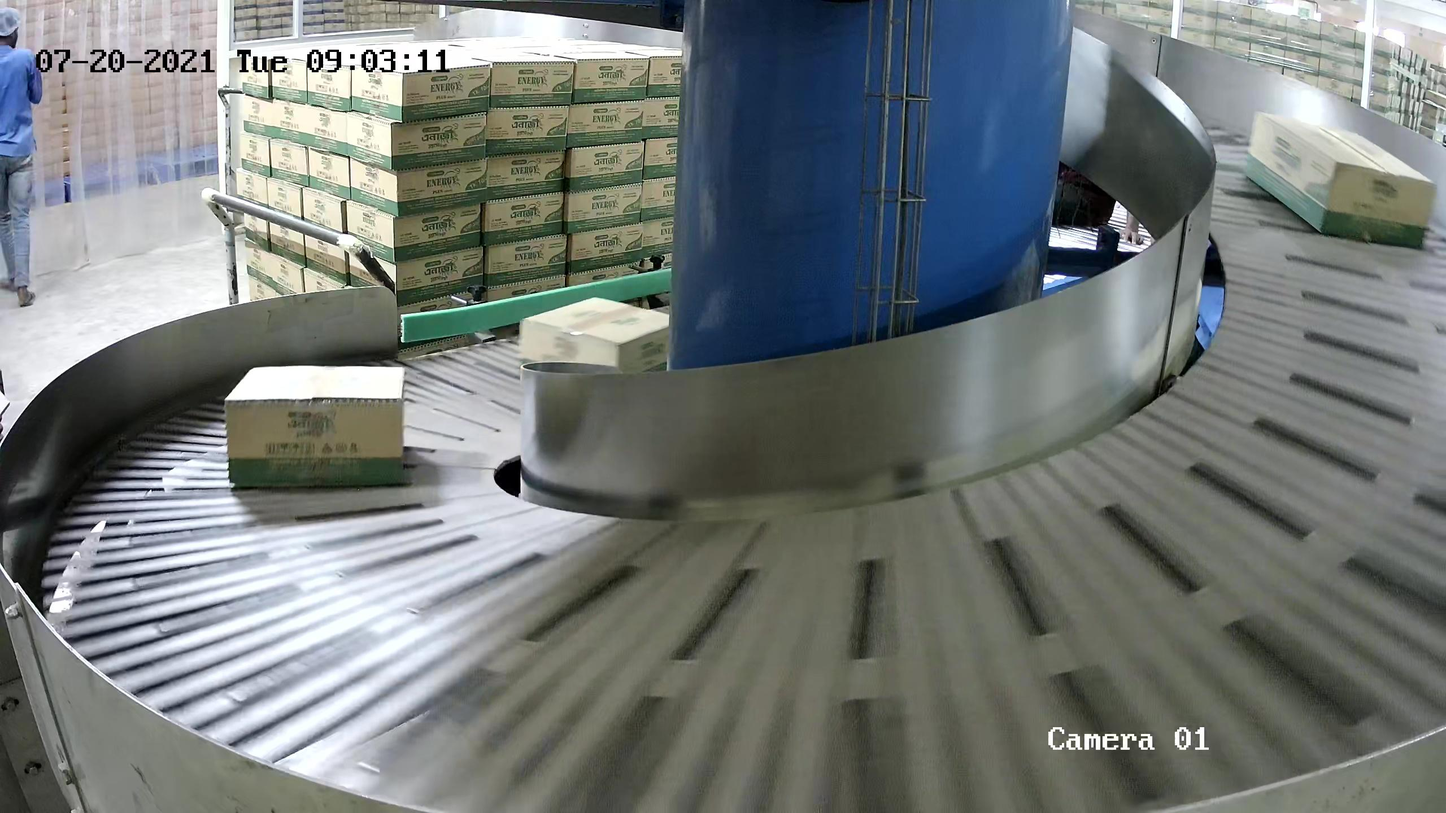Box: (1242, 109, 1438, 248), (223, 363, 408, 489), (518, 295, 670, 378)
